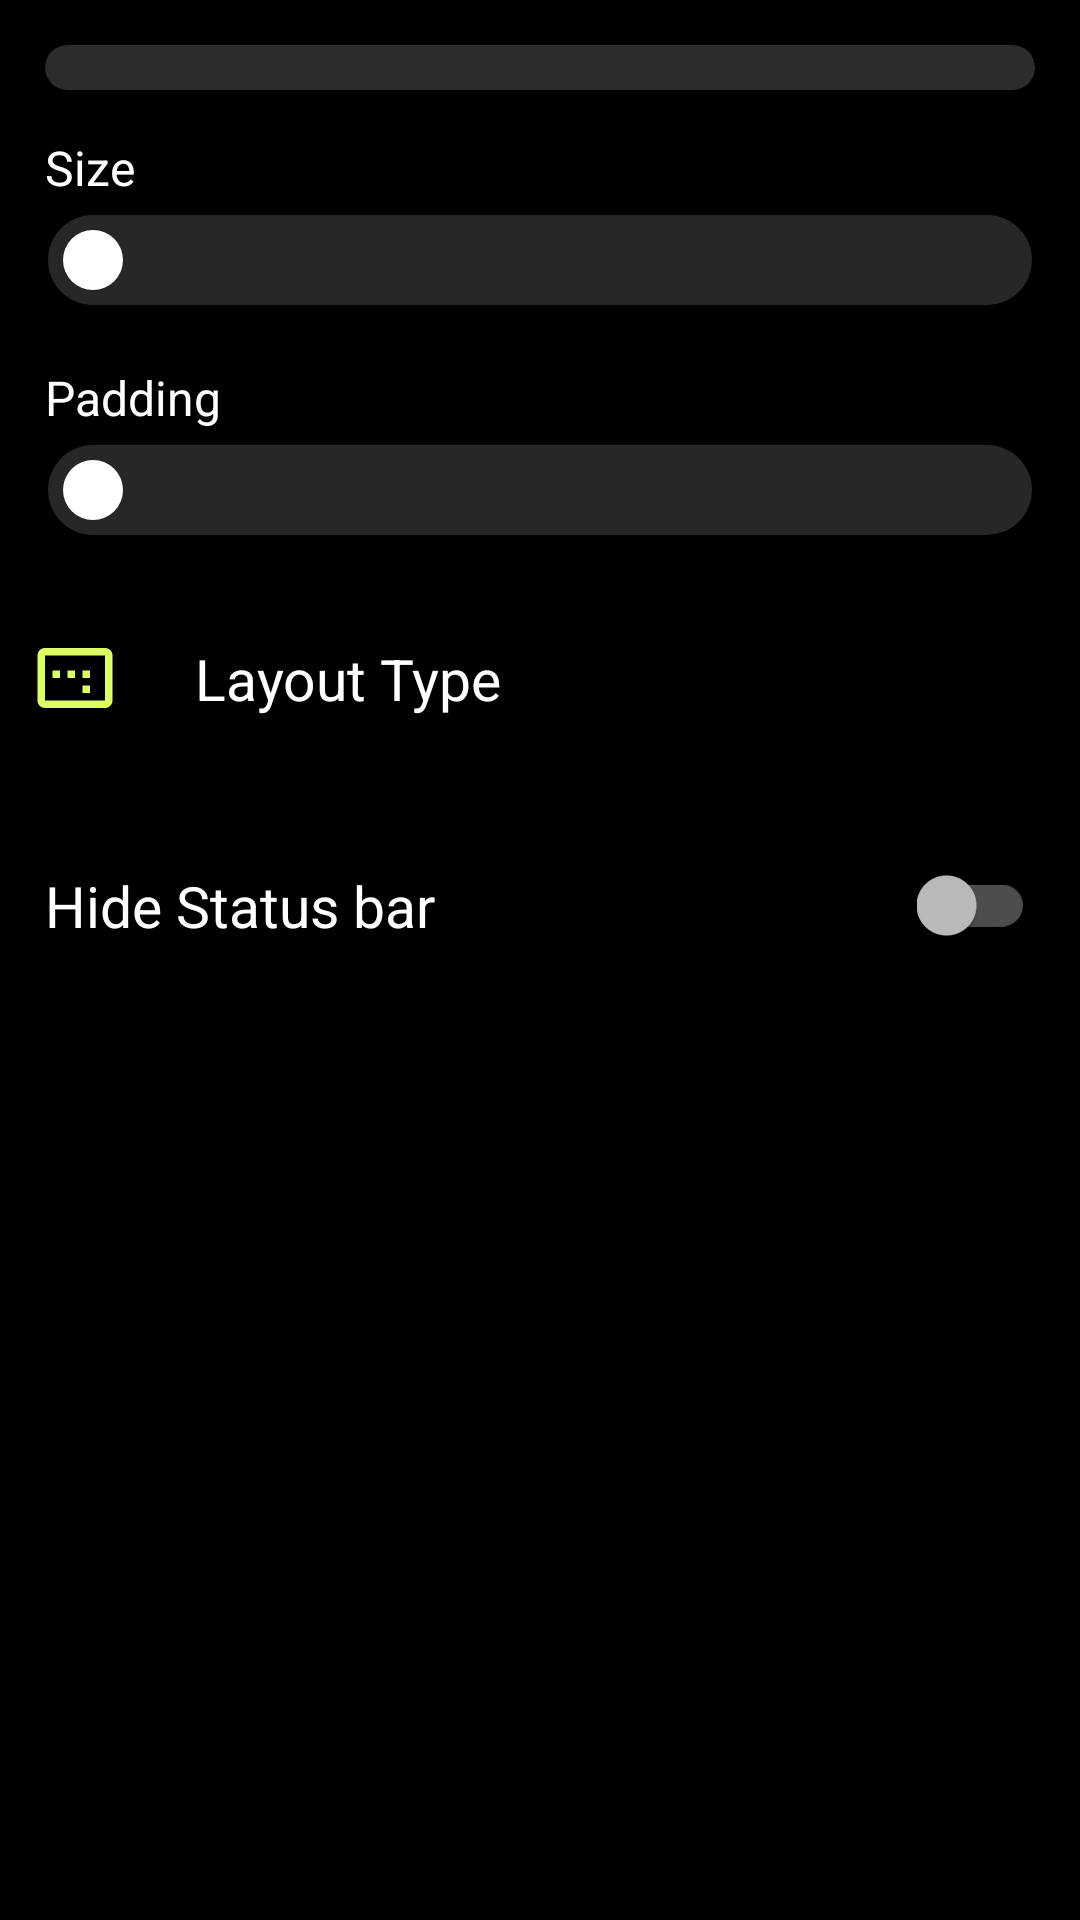

Named icons in this screenshot (1080w x 1920h) and their centers, (x=x, y=y):
aspect ratio: (x=75, y=678)
